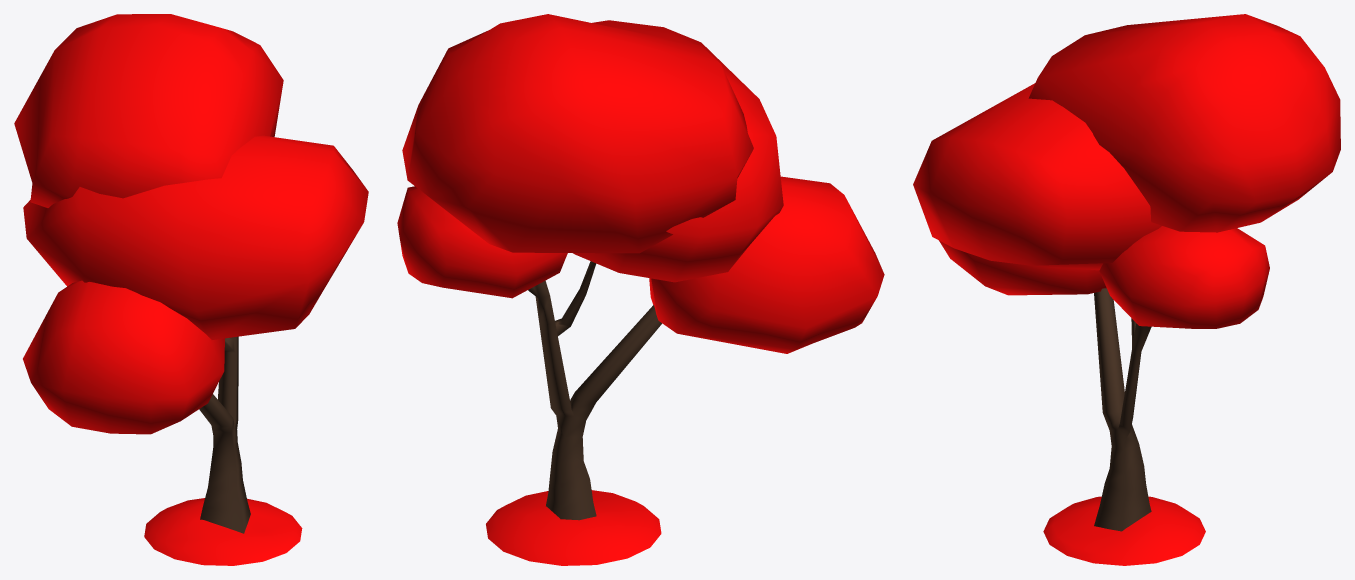
File: Red tree 3.fbx
3 renders of one model, left to right at view 1: azimuth 30°, elevation 25°; view 2: azimuth 150°, elevation 25°; view 3: azimuth 270°, elevation 25°, orthographic. The views are drawn at different scales.
Parts seen in each view (by area): view 1: Tree-03.002; view 2: Tree-03.002; view 3: Tree-03.002.
Boxes of the visible parts, x1,y1,x2,y2 form: Tree-03.002: [14, 14, 368, 565]; Tree-03.002: [397, 14, 884, 565]; Tree-03.002: [913, 14, 1340, 565].
Bounding box in the file's own units: 322 × 422 × 331.
